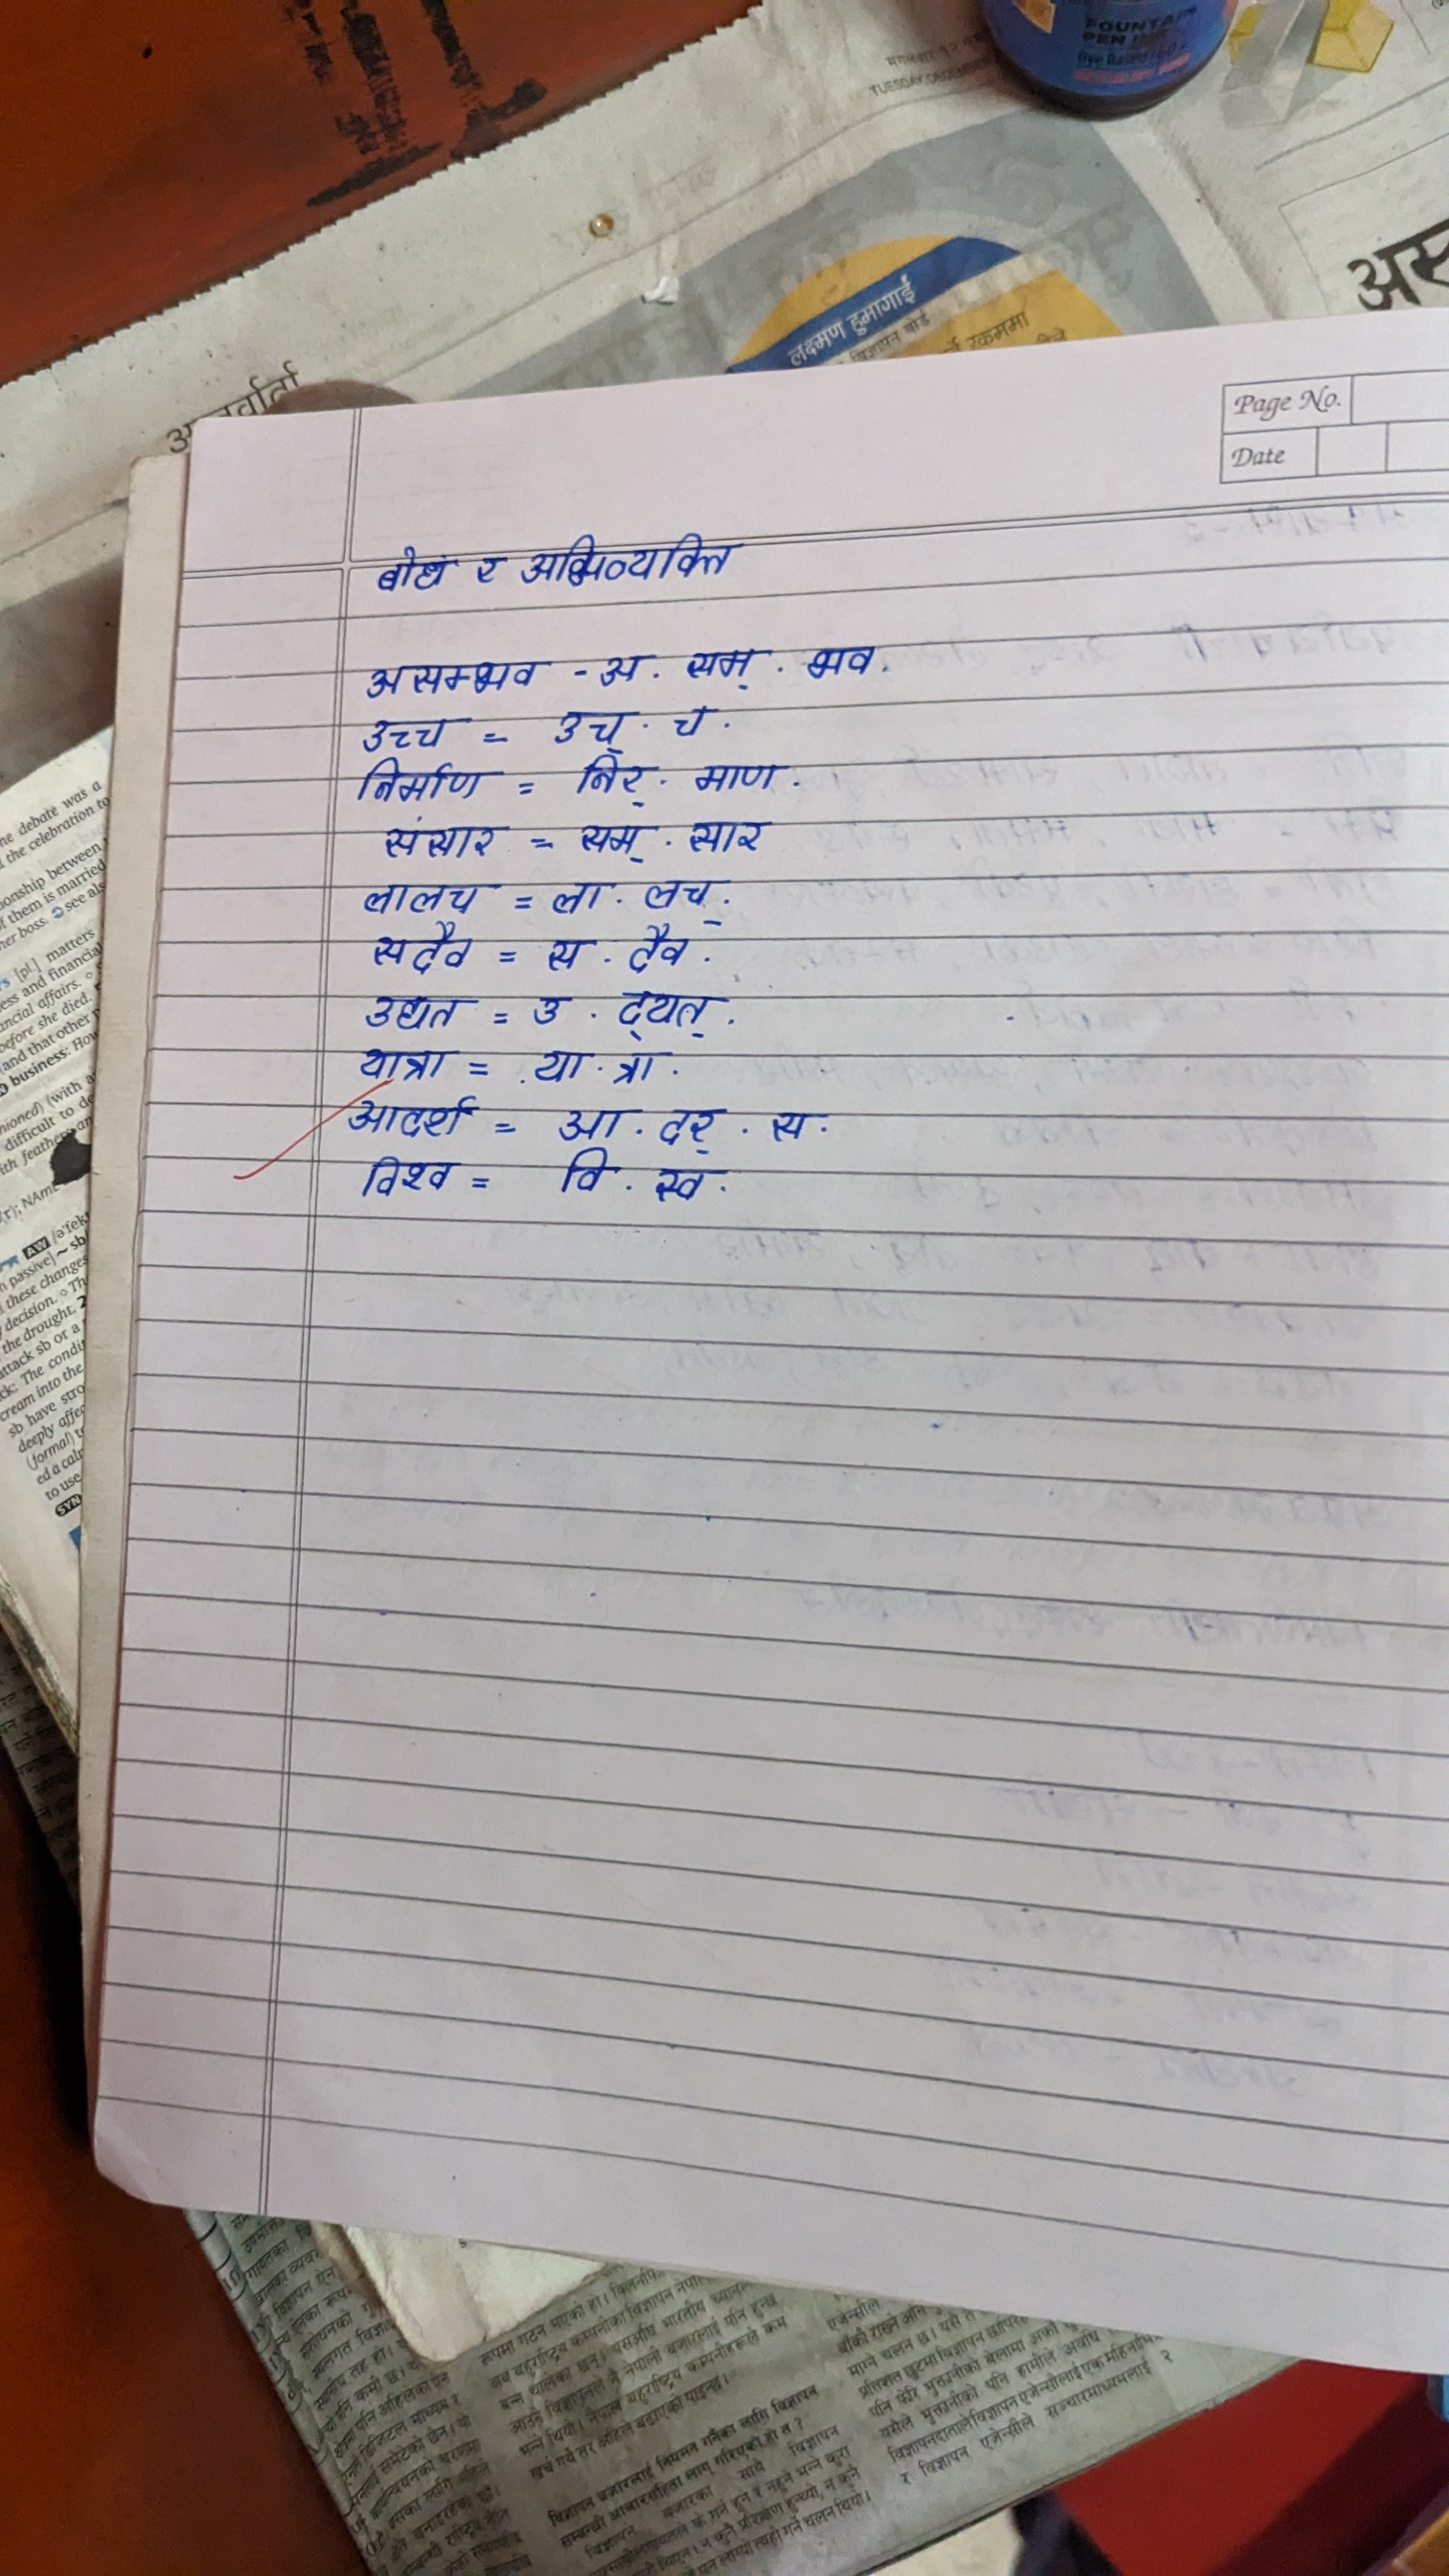text: (524, 525, 766, 594), (356, 1146, 471, 1217), (341, 1093, 485, 1146), (352, 653, 538, 694), (350, 757, 494, 805), (375, 810, 497, 865), (372, 922, 481, 978), (359, 874, 492, 918), (616, 987, 720, 1040), (681, 750, 791, 800), (363, 987, 476, 1035), (573, 748, 655, 812), (798, 632, 890, 686), (671, 644, 770, 694), (370, 534, 449, 594), (679, 810, 770, 862), (354, 709, 458, 752), (625, 925, 709, 977), (556, 1145, 617, 1214), (640, 872, 727, 920), (352, 1044, 448, 1086), (653, 1102, 729, 1155), (754, 1099, 826, 1152), (547, 701, 628, 745), (575, 816, 648, 865), (649, 1162, 717, 1212), (556, 1100, 628, 1145), (600, 637, 649, 690), (548, 869, 603, 916), (462, 543, 511, 594), (541, 924, 584, 982), (534, 1044, 593, 1086), (614, 1046, 662, 1092), (524, 994, 575, 1035), (669, 706, 725, 741)
